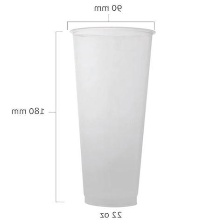glass: (61, 22, 156, 213)
